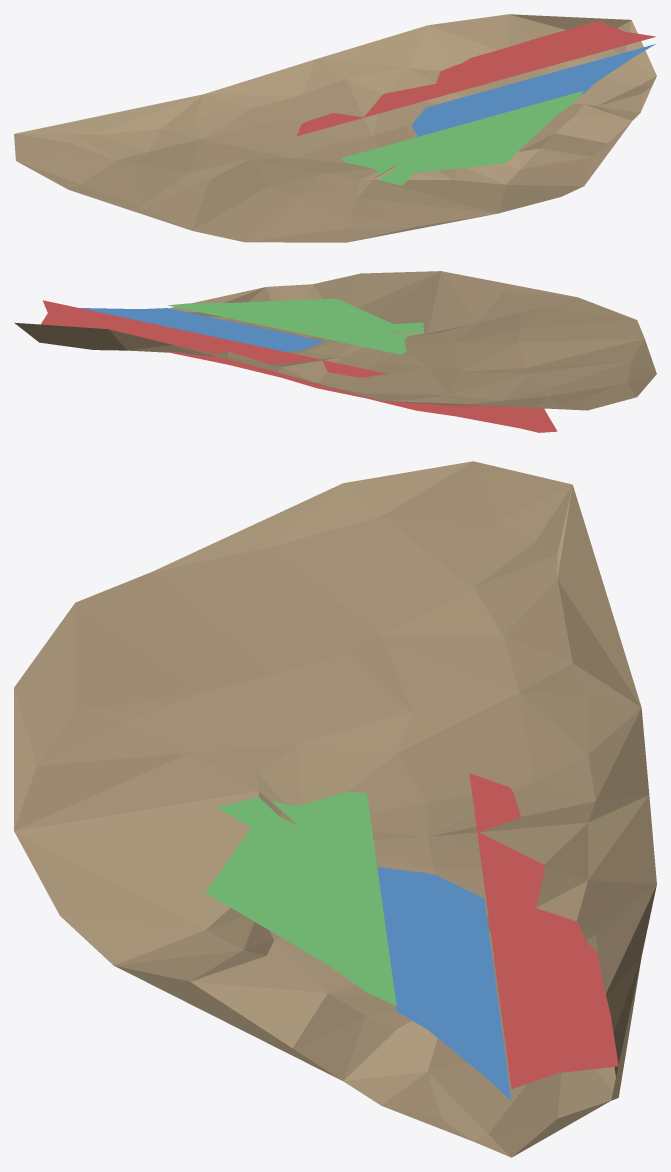
File: CINCIN_arazi_SU.dae
3 renders of one model, top to bottom at view 1: azimuth 30°, elevation 25°; view 2: azimuth 150°, elevation 25°; view 3: azimuth 270°, elevation 25°, orthographic. The views are drawn at different scales.
Parts seen in each view (by area): view 1: n0, n3, n1, n2; view 2: n0, n1, n3, n2; view 3: n0, n3, n1, n2.
Part boxes in pixels (x1,y1,x2,y2): n0: (14, 14, 656, 242); n3: (341, 90, 583, 185); n1: (297, 21, 655, 136); n2: (412, 44, 655, 136); n0: (14, 271, 656, 410); n1: (40, 300, 557, 432); n3: (168, 298, 423, 354); n2: (44, 306, 324, 351); n0: (14, 461, 656, 1157); n3: (205, 792, 396, 1005); n1: (469, 773, 618, 1088); n2: (377, 867, 511, 1101).
Bounding box in the file's own units: 172 × 84 × 20.6.
